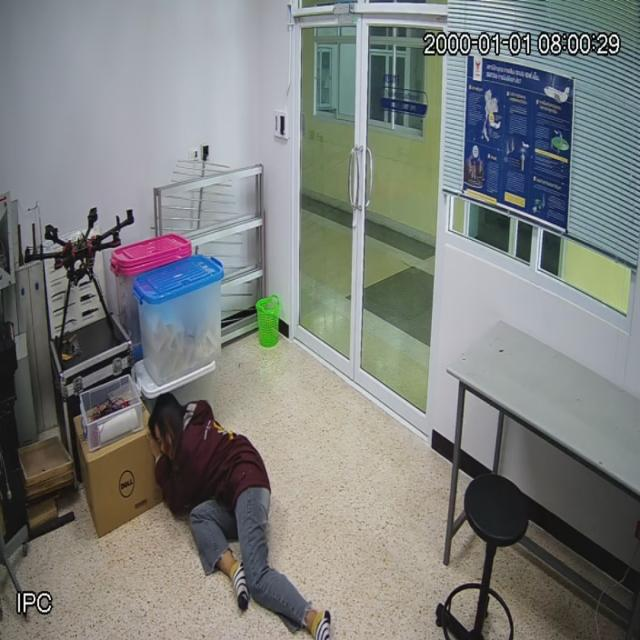fall: (150, 390, 318, 638)
